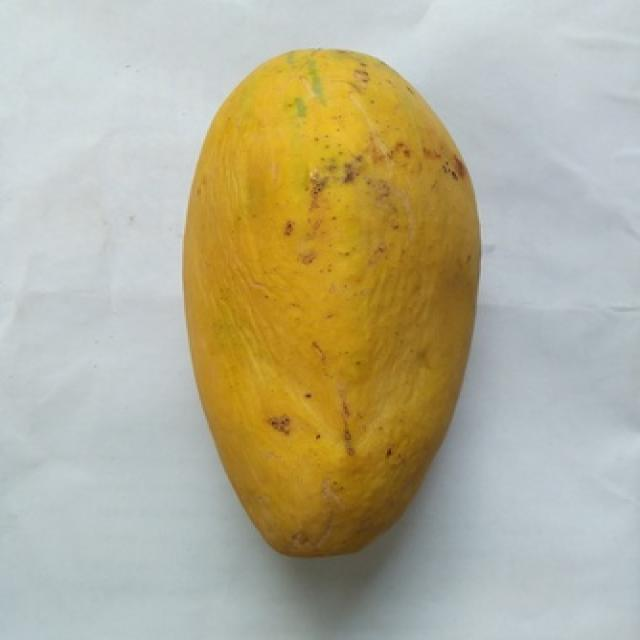Mango: (184, 50, 479, 555)
